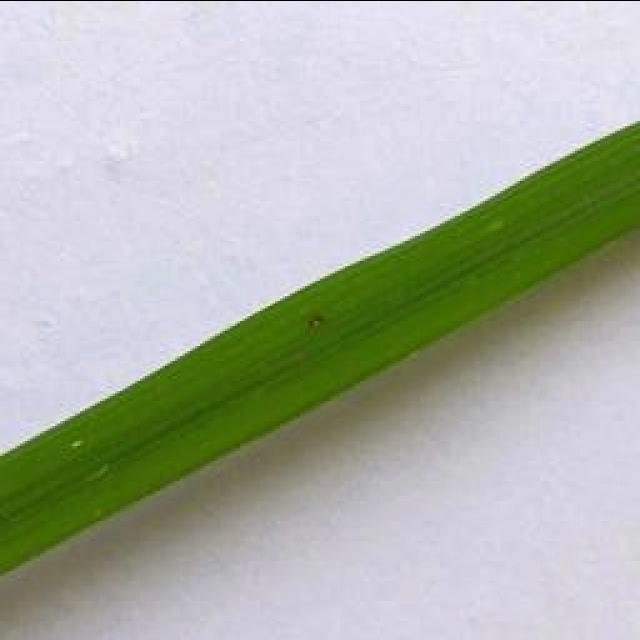Unhealthy: (303, 312, 329, 336)
